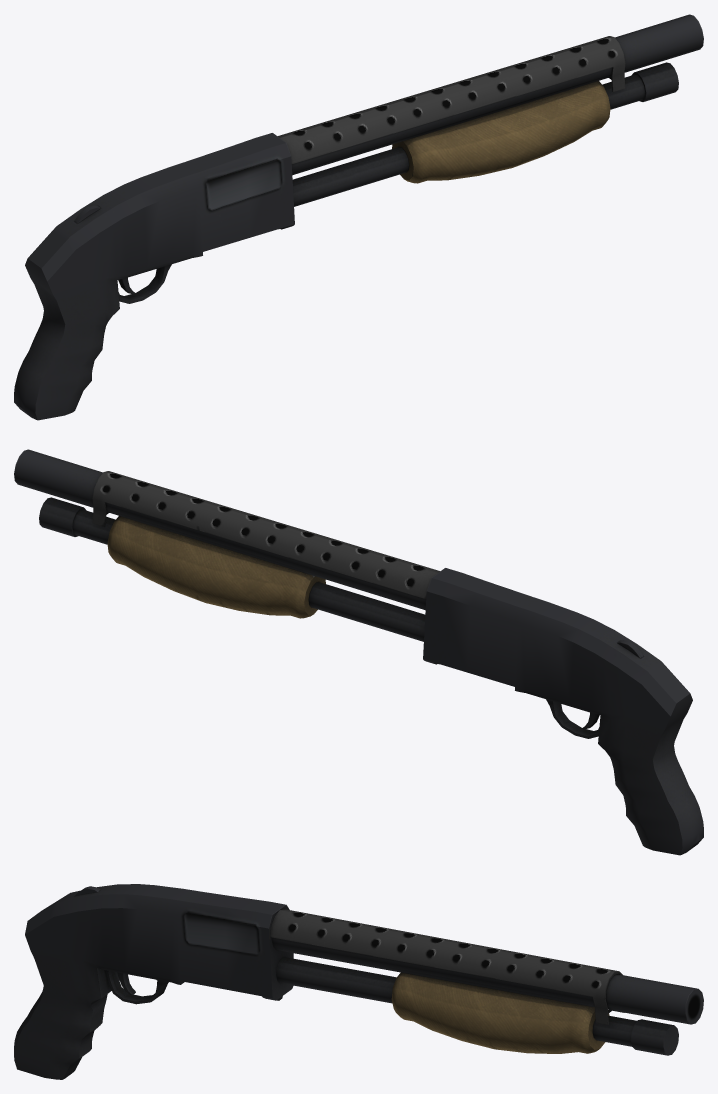
Rendered from shotgun_000016.obj.
3 renders of one model, top to bottom at view 1: azimuth 30°, elevation 25°; view 2: azimuth 150°, elevation 25°; view 3: azimuth 330°, elevation 25°, orthographic.
Parts seen in each view (by area): view 1: mesh_Cube.001; view 2: mesh_Cube.001; view 3: mesh_Cube.001.
Part boxes in pixels (x1,y1,x2,y2): mesh_Cube.001: (14, 14, 703, 420); mesh_Cube.001: (14, 449, 703, 855); mesh_Cube.001: (14, 884, 703, 1079).
Bounding box in the file's own units: 1.86 × 0.6276 × 0.1708.
Materials: 1 (1 with a texture image).
